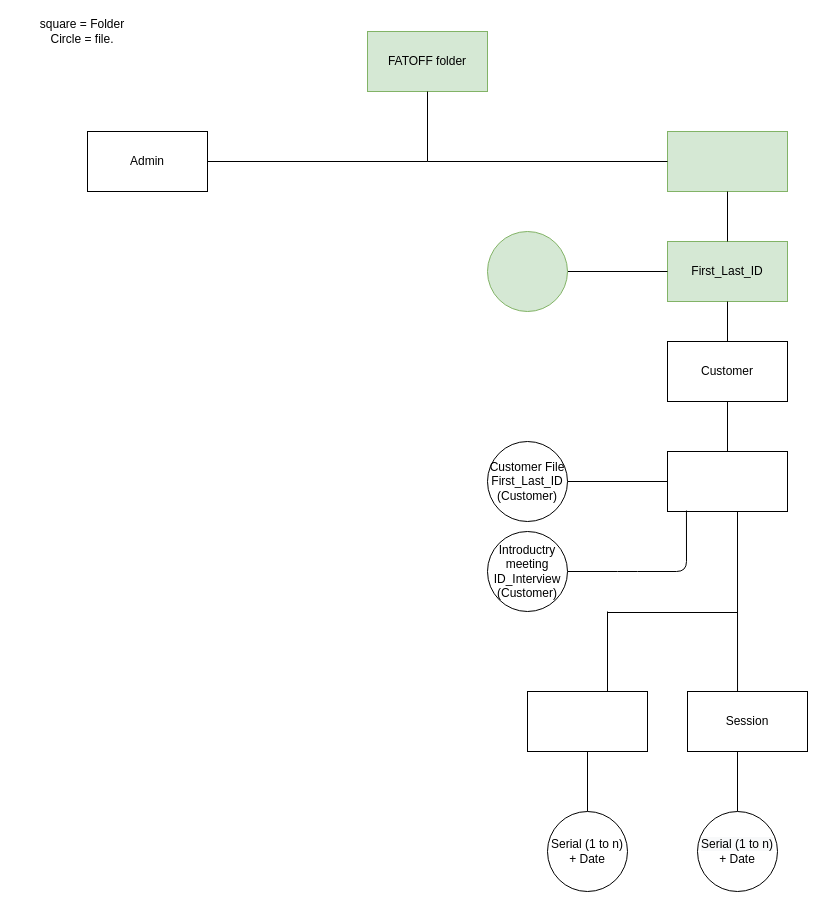
Image size: 825x909. Some labels were removed from this diagram. The shapes that lost their labels are listed below. From the top down, each one's centre as x and y in pixels, then its label:
At point 727,161: "Dieticions".
At point 527,271: "Dieticion File First_Last_ID".
At point 727,481: "First_Last_ID (Customer)".
At point 587,721: "Measures".
